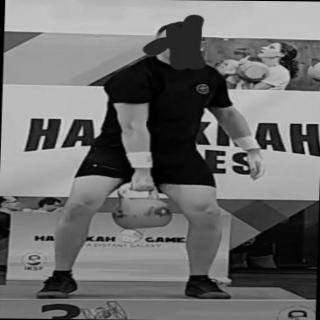kettlebell: (110, 182, 180, 232)
